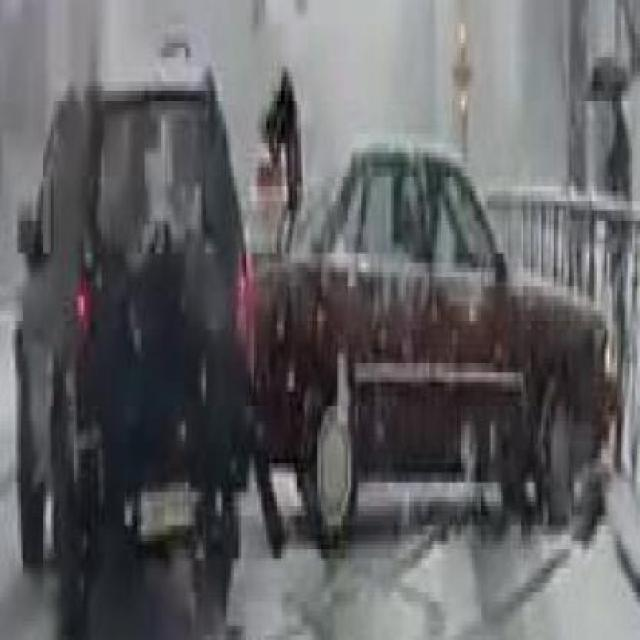accident: (16, 51, 614, 586)
